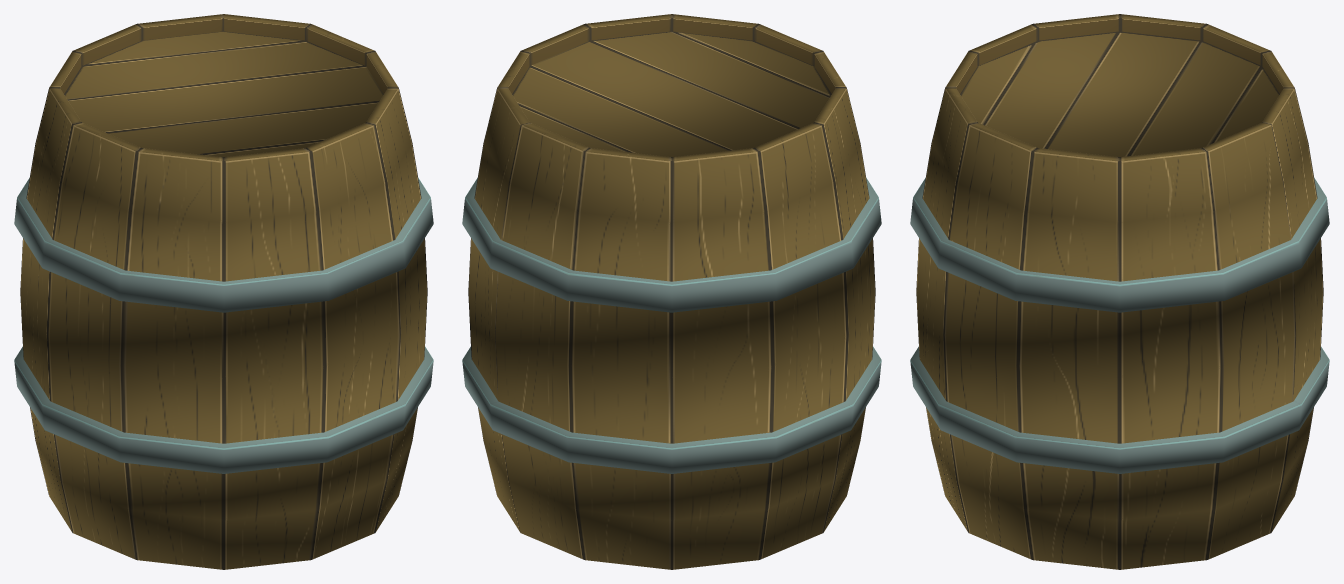
Rendered from simplebarrel.glb.
3 renders of one model, left to right at view 1: azimuth 30°, elevation 25°; view 2: azimuth 150°, elevation 25°; view 3: azimuth 270°, elevation 25°, orthographic.
Visible parts, largest first — view 1: barrel; view 2: barrel; view 3: barrel.
Boxes of the visible parts, x1,y1,x2,y2 form: barrel: (14, 14, 433, 569); barrel: (462, 14, 881, 569); barrel: (910, 14, 1329, 569).
Bounding box in the file's own units: 1.86 × 2 × 1.86.
Materials: 1 (1 with a texture image).
